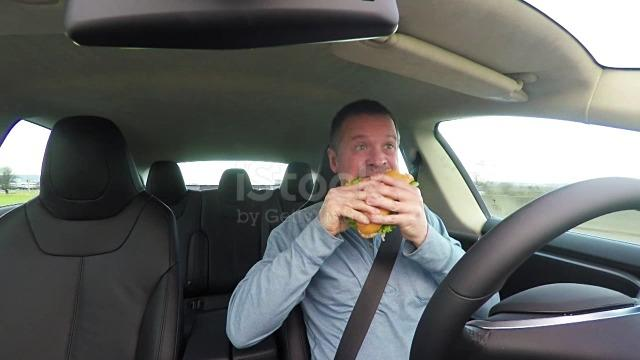Eating: (299, 91, 444, 248)
